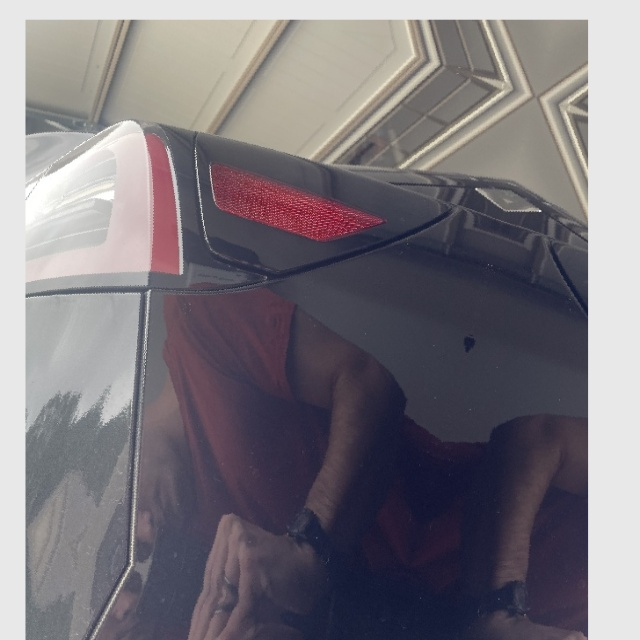reflector: (198, 157, 389, 265)
